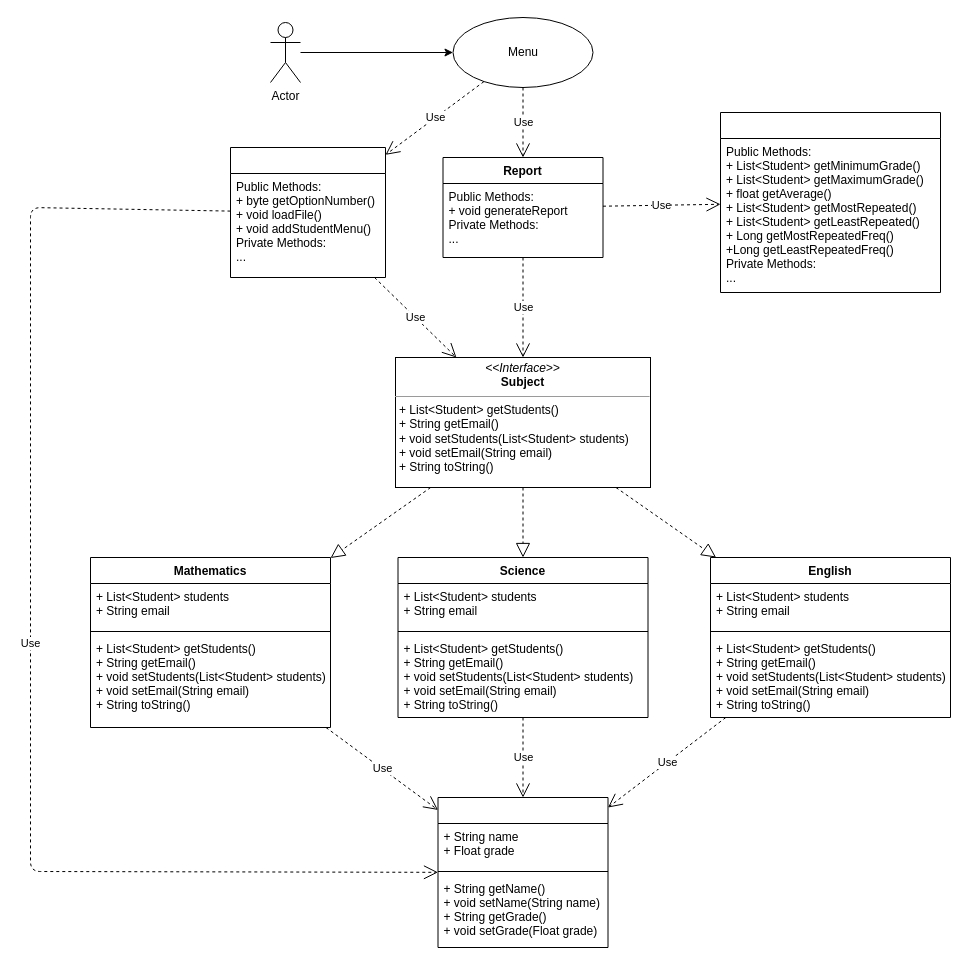
Image size: 968x968. Some labels were removed from this diagram. Here are the shapes that lost their labels. From the top down, the box of each, then its label:
(230, 146, 386, 278): Utilities
(720, 112, 940, 292): Statistics
(437, 796, 608, 948): Student
